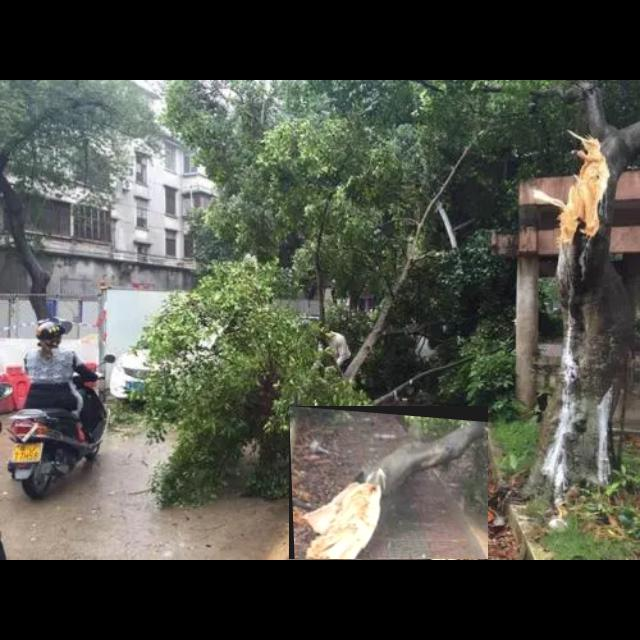Fallen Tree: (289, 406, 489, 560)
